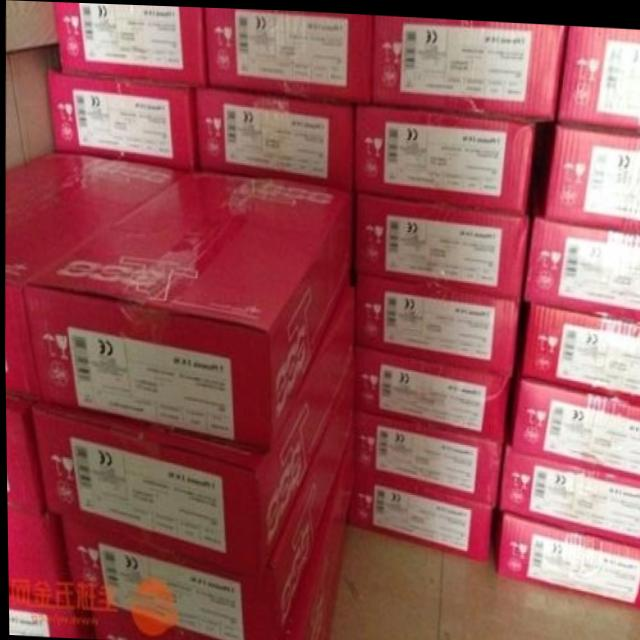box: (33, 271, 354, 569), (22, 168, 352, 446), (60, 360, 355, 640), (5, 150, 194, 401), (371, 14, 568, 120), (353, 103, 535, 211), (353, 192, 528, 296), (355, 270, 521, 375), (278, 421, 356, 640), (193, 87, 355, 191), (202, 6, 373, 104), (47, 69, 196, 169), (490, 505, 640, 604), (354, 344, 511, 438), (505, 373, 640, 479), (355, 408, 503, 503), (496, 444, 640, 541), (52, 2, 208, 87), (515, 298, 640, 402), (346, 474, 494, 561), (523, 214, 640, 320), (534, 119, 640, 227), (6, 509, 91, 636), (554, 22, 640, 130), (5, 396, 43, 513), (90, 614, 201, 640)
